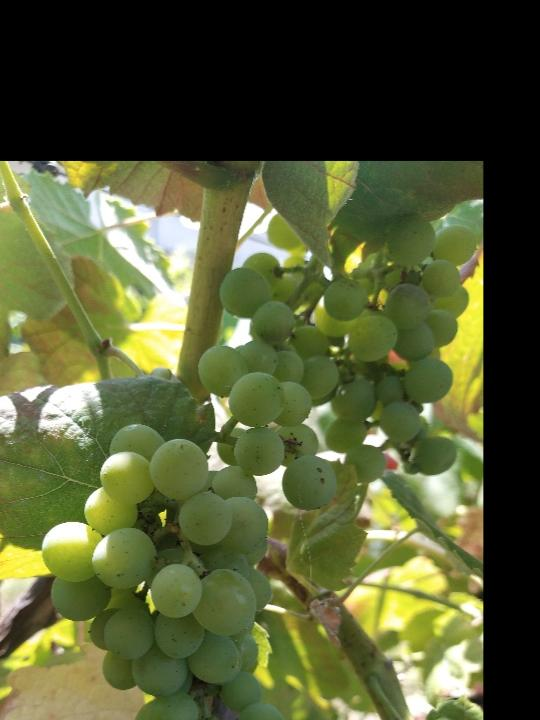grape: (40, 422, 286, 720), (197, 253, 389, 515)
